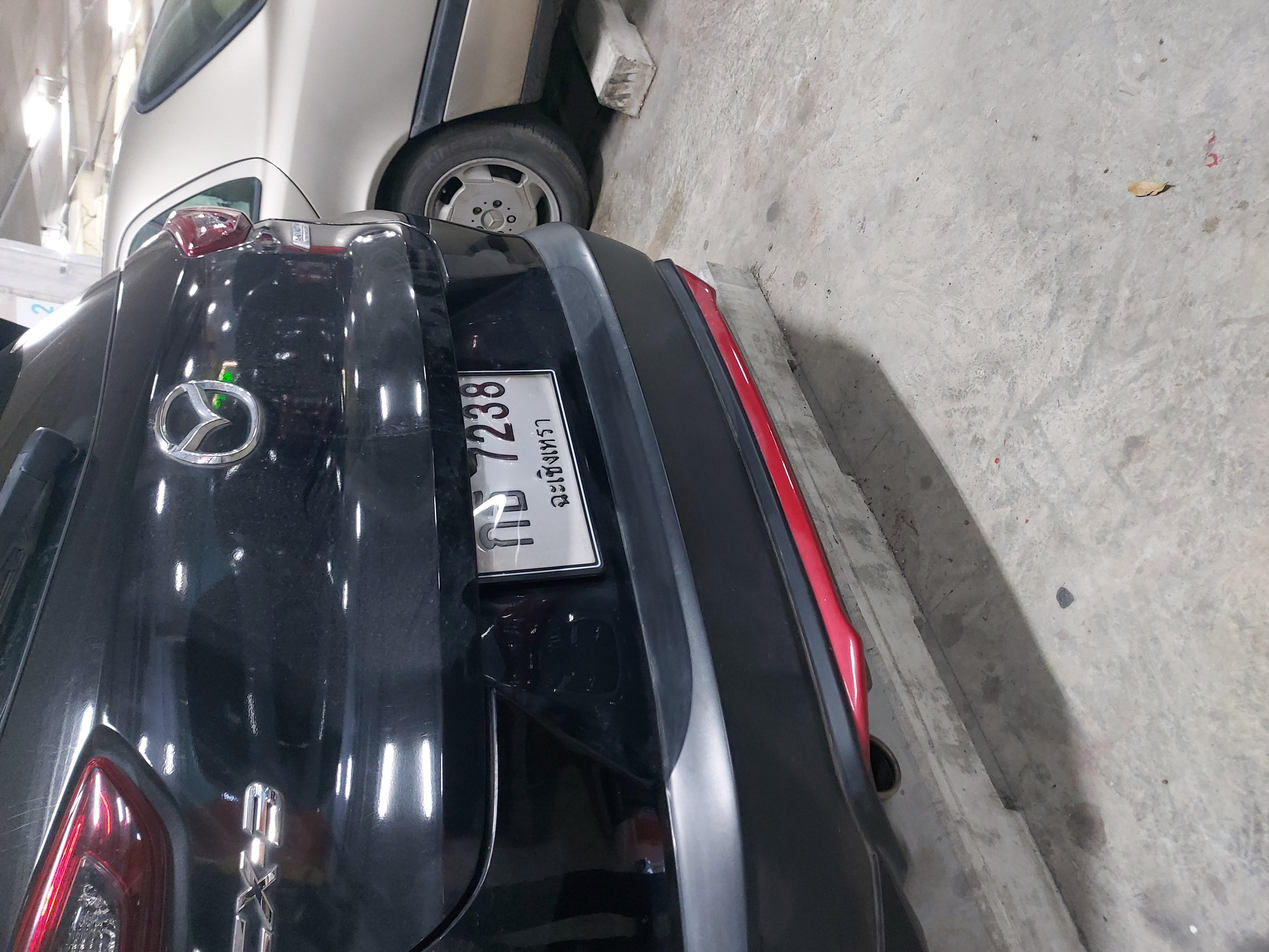license-plate: (505, 343, 774, 450)
